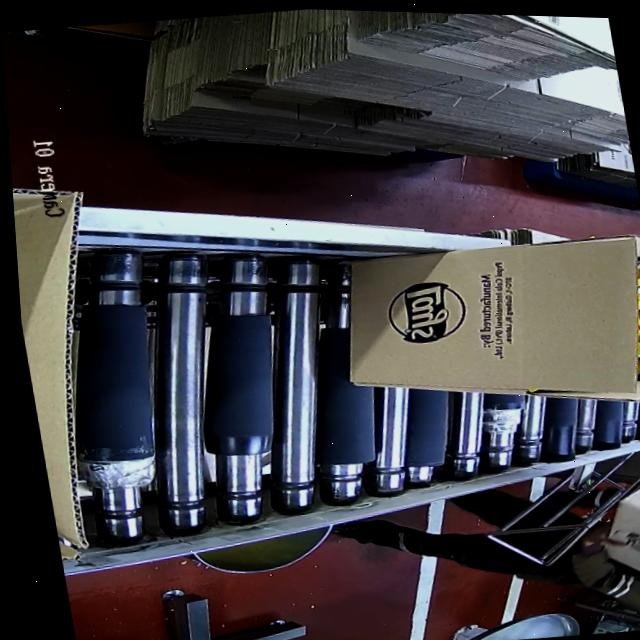SALTED: (613, 247, 640, 385)
